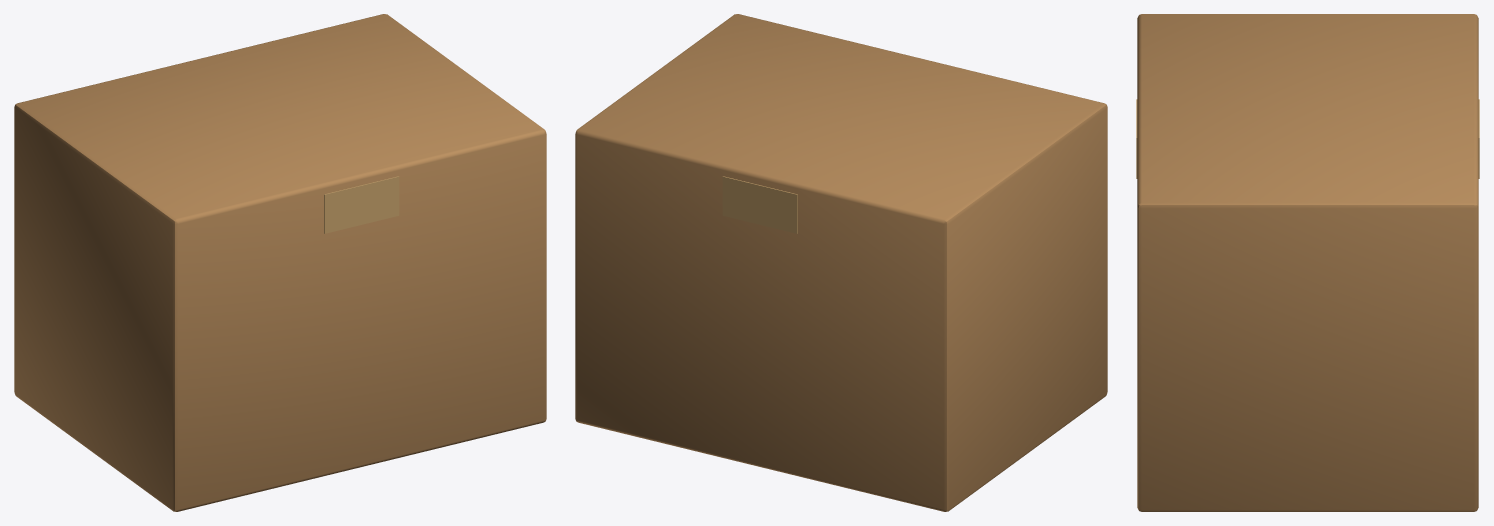
The picture shows the model from 3 angles, left to right: view 1: azimuth 30°, elevation 25°; view 2: azimuth 150°, elevation 25°; view 3: azimuth 270°, elevation 25°; orthographic projection. The views are drawn at different scales.
Parts seen in each view (by area): view 1: box_a; view 2: box_a; view 3: box_a.
Boxes of the visible parts, box(x1,y1,x2,y2) form: box_a: box(14, 14, 546, 511); box_a: box(575, 14, 1107, 511); box_a: box(1136, 14, 1479, 511).
Size of the model in its own units: 0.4 by 0.3 by 0.302.
